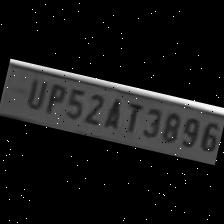2: (79, 88, 106, 127)
3: (138, 102, 165, 141)
5: (59, 83, 87, 122)
6: (195, 117, 222, 155)
8: (156, 107, 183, 146)
9: (176, 111, 202, 150)
A: (97, 93, 125, 132)
P: (40, 79, 67, 118)
T: (118, 98, 144, 136)
U: (19, 75, 48, 112)
